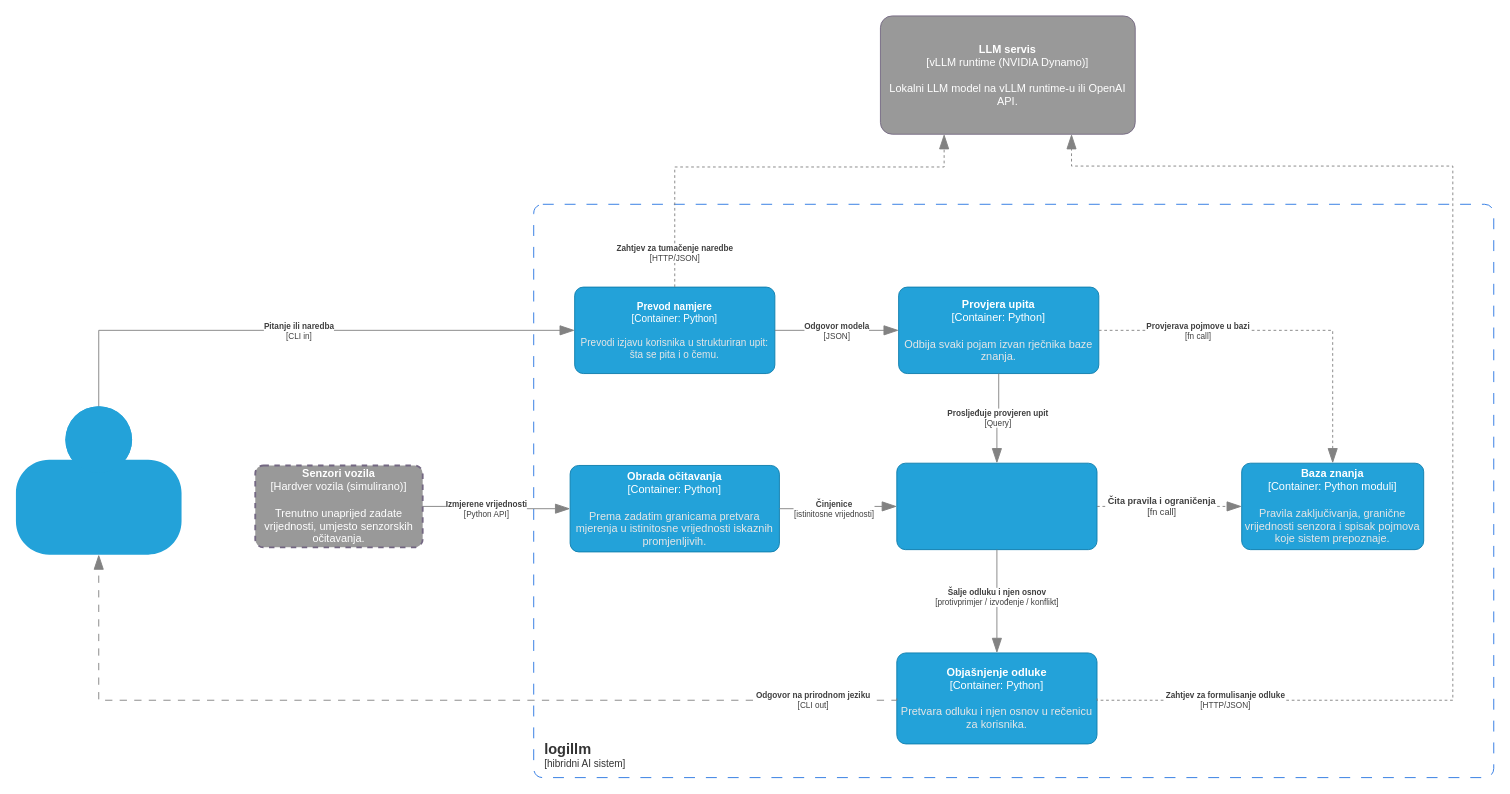
Some shapes in this 1510 by 794 pixel diagram are drawn without their labels. Here are the shapes that lost their labels. From the top down, the centre of each, then its label:
[98,480]: Korisnik [Person] Postavlja pitanje ili traži da sistem izvrši određenu radnju.
[996,506]: Logičko jezgro [Container: Python] Iskazna logika, sloj gdje se donosi odluka
